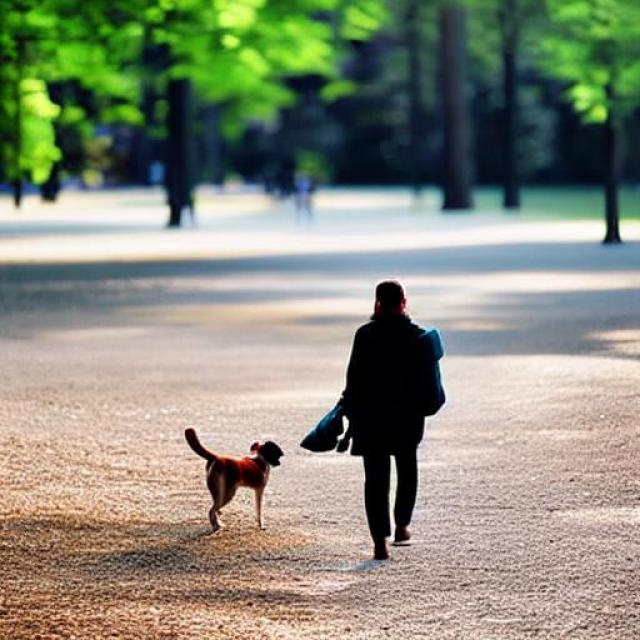Unleashed_Dog: (184, 410, 424, 532)
